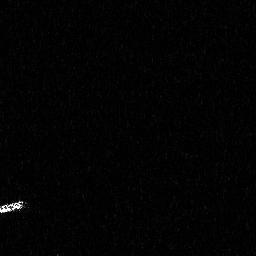ship: (1, 197, 28, 213)
